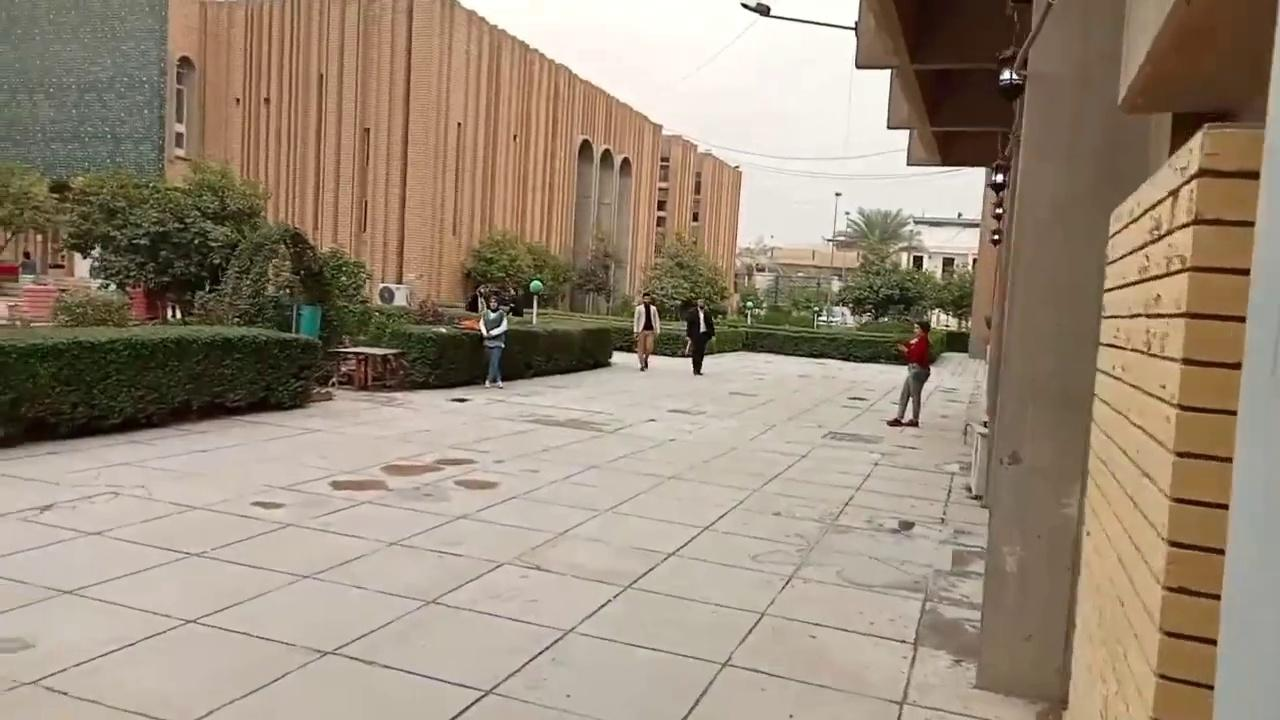fountain: (813, 273, 857, 328)
person: (885, 320, 932, 427), (478, 291, 510, 388), (684, 298, 715, 375), (632, 290, 660, 371), (16, 249, 37, 275)
tree: (1, 156, 372, 347), (57, 158, 269, 322), (193, 219, 323, 332), (835, 205, 922, 320), (460, 226, 571, 316), (836, 257, 973, 327), (642, 228, 730, 321), (0, 159, 59, 258), (316, 244, 372, 346), (841, 205, 918, 267), (837, 258, 905, 321), (572, 228, 619, 315), (51, 286, 139, 327), (524, 240, 573, 310), (899, 265, 944, 325), (937, 263, 974, 331), (570, 262, 609, 314)
